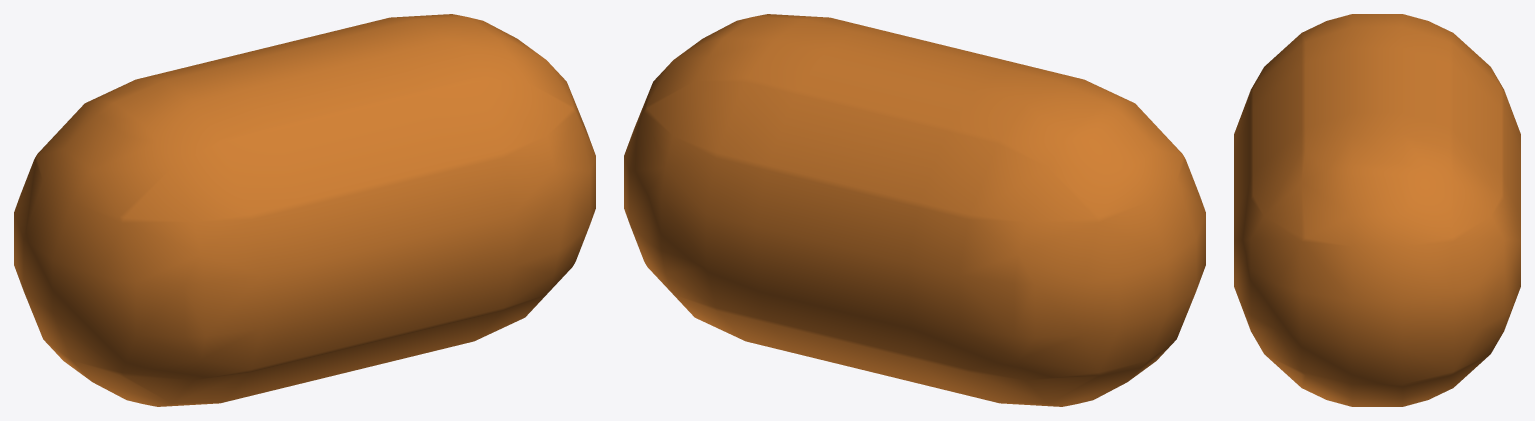
3 views of the same model, side by side, from view 1: azimuth 30°, elevation 25°; view 2: azimuth 150°, elevation 25°; view 3: azimuth 270°, elevation 25° (orthographic). The views are drawn at different scales.
Parts seen in each view (by area): view 1: Mball; view 2: Mball; view 3: Mball.
Part boxes in pixels (x1,y1,x2,y2): Mball: (14,14,595,406); Mball: (624,14,1205,406); Mball: (1234,14,1520,406).
Bounding box in the file's own units: 4.23 × 2.27 × 2.27.
